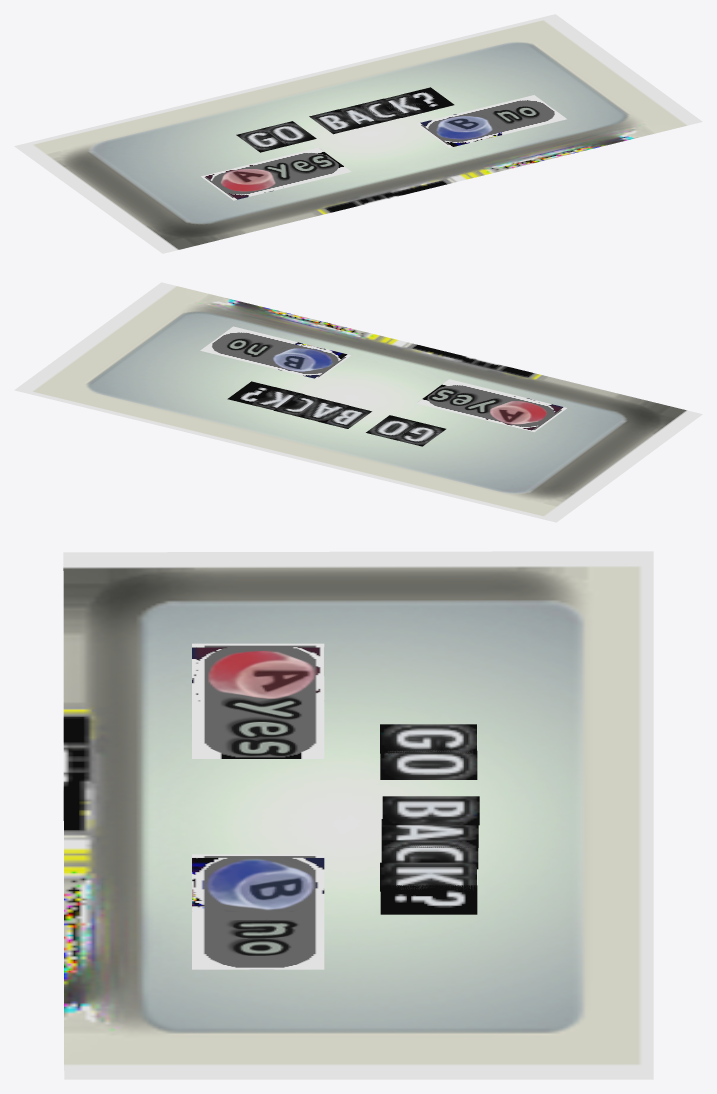
The model's file is Go Back.FBX.
The picture shows the model from 3 angles, top to bottom: view 1: azimuth 30°, elevation 25°; view 2: azimuth 150°, elevation 25°; view 3: azimuth 270°, elevation 25°; orthographic projection. The views are drawn at different scales.
Visible parts, largest first — view 1: GoBack Game_Baloon, YesNo Anim; view 2: GoBack Game_Baloon, YesNo Anim; view 3: GoBack Game_Baloon, YesNo Anim.
Part boxes in pixels (x1,y1,x2,y2): GoBack Game_Baloon: (14, 14, 702, 253); YesNo Anim: (201, 95, 566, 200); GoBack Game_Baloon: (14, 282, 702, 522); YesNo Anim: (200, 326, 566, 432); GoBack Game_Baloon: (63, 551, 653, 1079); YesNo Anim: (192, 643, 324, 969).
Bounding box in the file's own units: 208 × 97.95 × 1.68.
